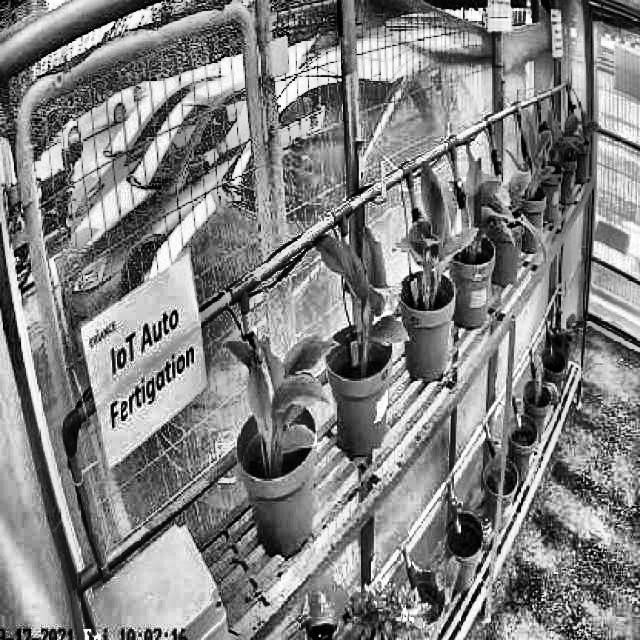plants: (228, 333, 337, 455), (318, 228, 413, 354), (394, 159, 470, 299), (460, 144, 517, 261), (514, 114, 560, 194)
